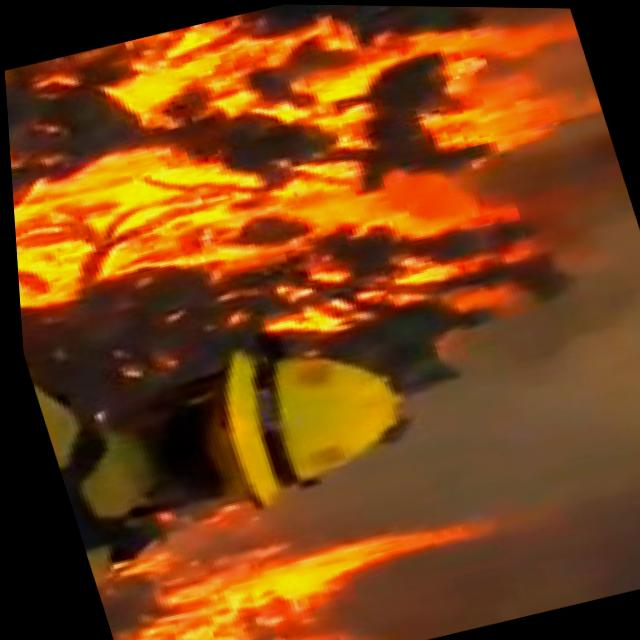fire: (0, 0, 640, 378), (70, 457, 472, 640)
smoke: (526, 227, 640, 566)
